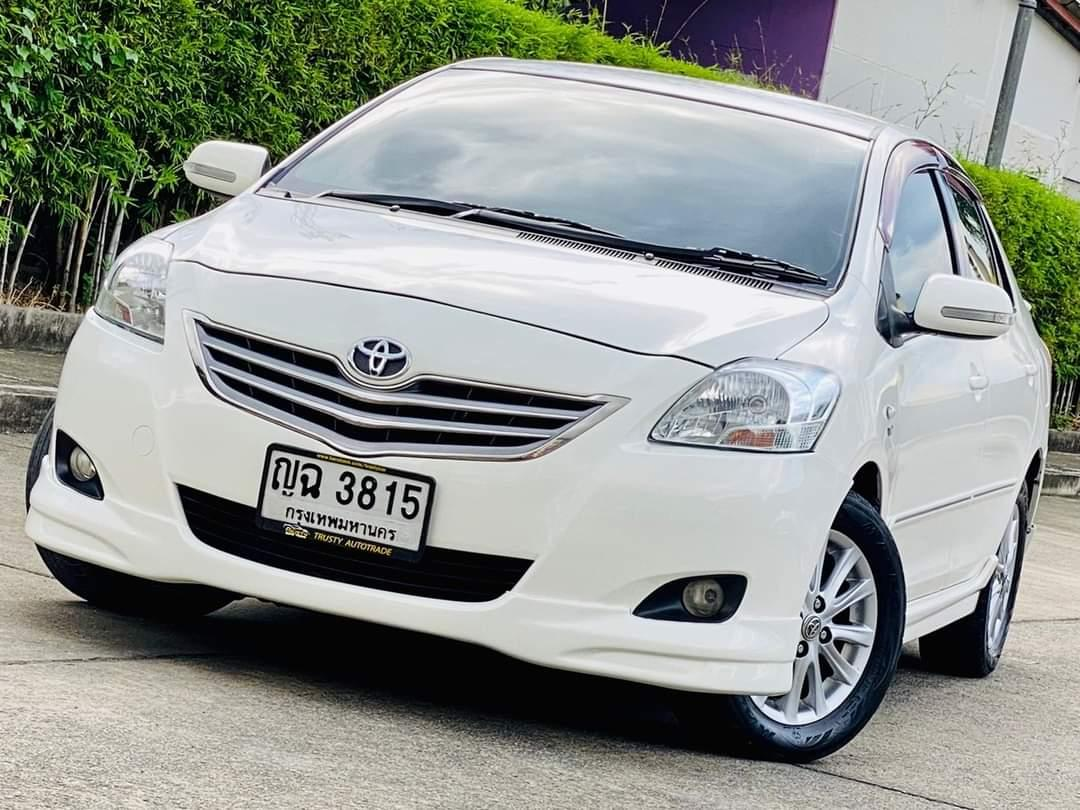license-plate: (250, 438, 438, 569)
